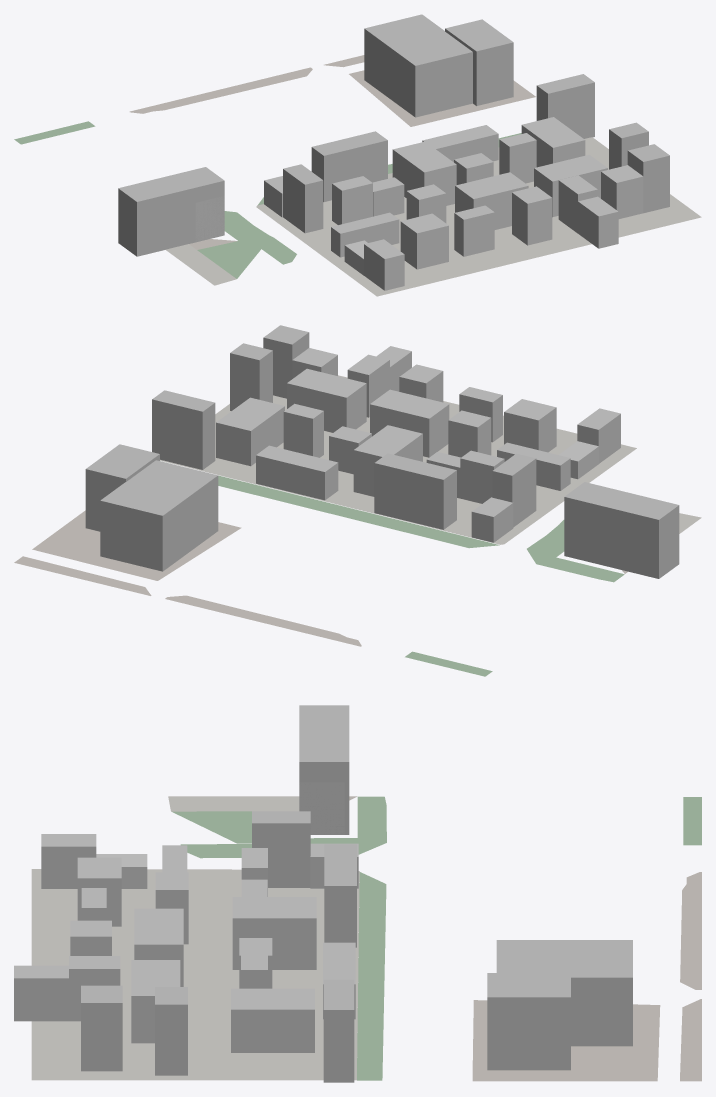
The model's file is 98_103_mid.glb.
3 views of the same model, one above another, from view 1: azimuth 30°, elevation 25°; view 2: azimuth 150°, elevation 25°; view 3: azimuth 270°, elevation 25° (orthographic). The views are drawn at different scales.
Size of the model in its own units: 536 by 61.35 by 513.
